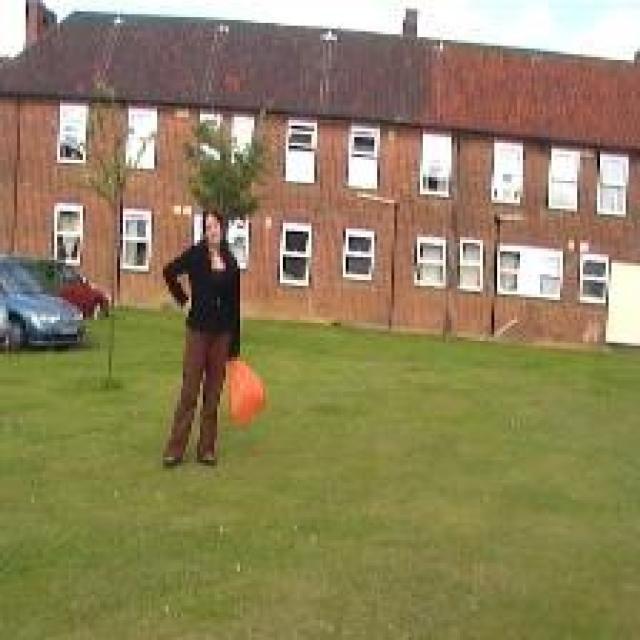other: (213, 349, 272, 421)
